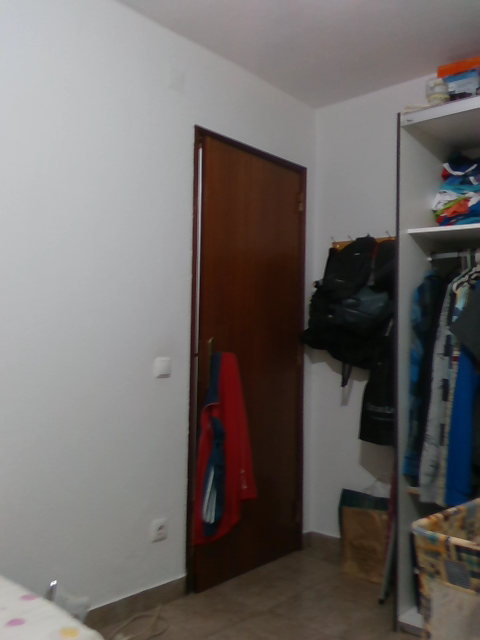closed: (184, 126, 309, 597)
